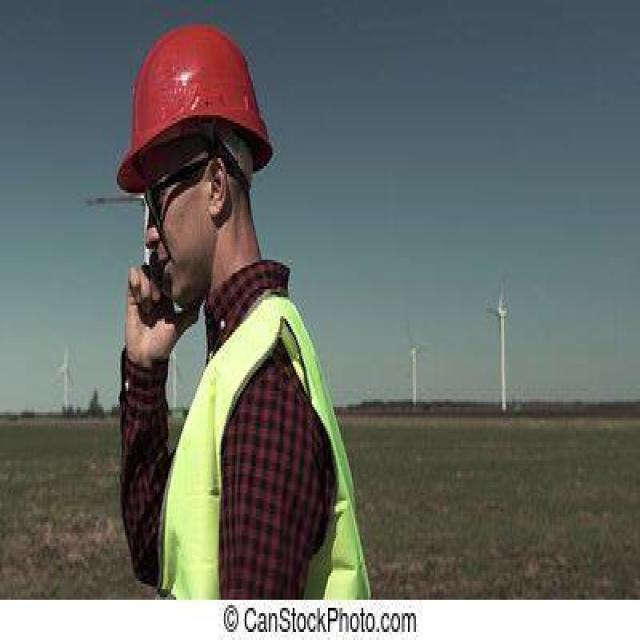helmet: (117, 22, 275, 195)
